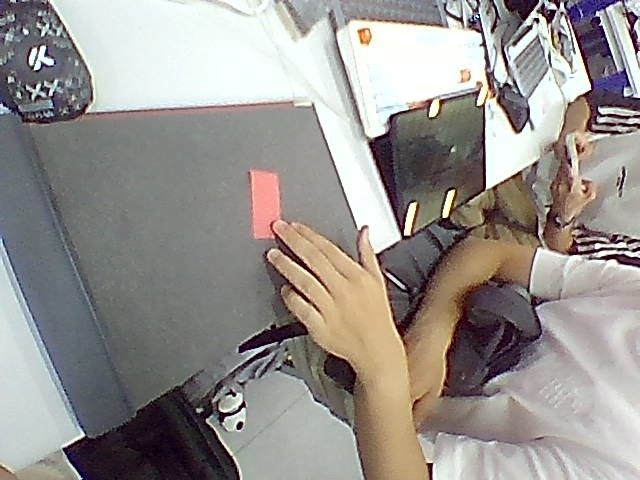card: (250, 170, 280, 238)
